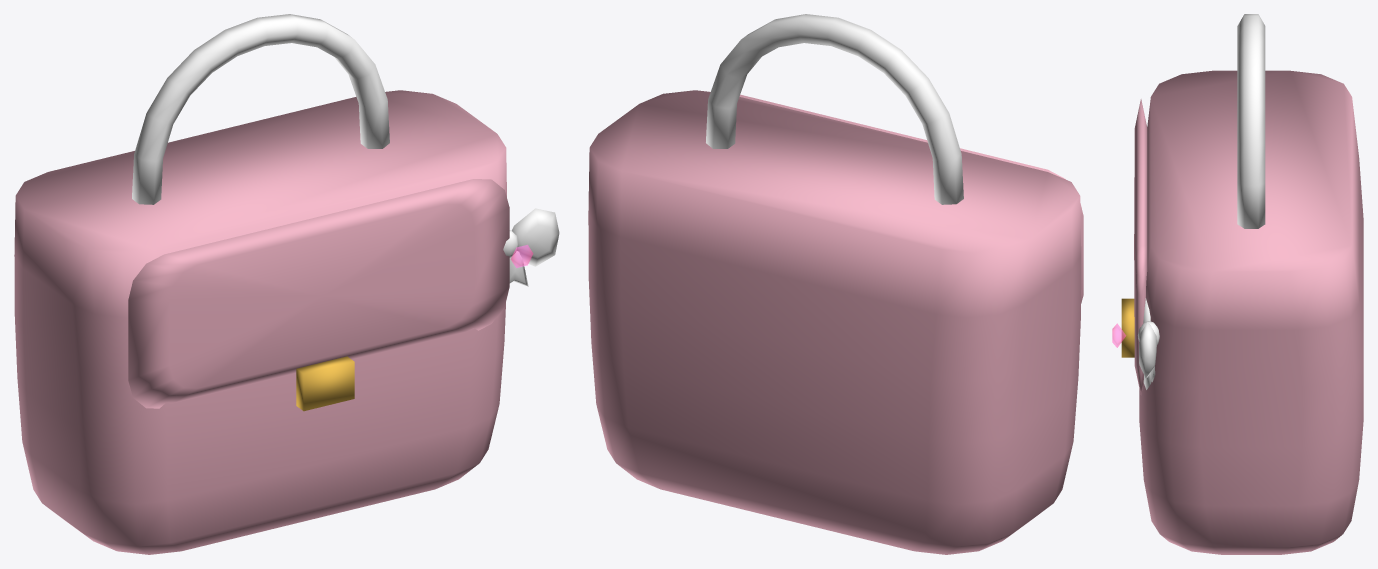
File: mini_bag.glb
The picture shows the model from 3 angles, left to right: view 1: azimuth 30°, elevation 25°; view 2: azimuth 150°, elevation 25°; view 3: azimuth 270°, elevation 25°; orthographic projection. The views are drawn at different scales.
Visible parts, largest first — view 1: mini_bag; view 2: mini_bag; view 3: mini_bag.
Part boxes in pixels (x1,y1,x2,y2): mini_bag: (14,14,559,554); mini_bag: (588,14,1083,554); mini_bag: (1112,14,1363,554).
Bounding box in the file's own units: 0.1805 × 0.1748 × 0.0899.
